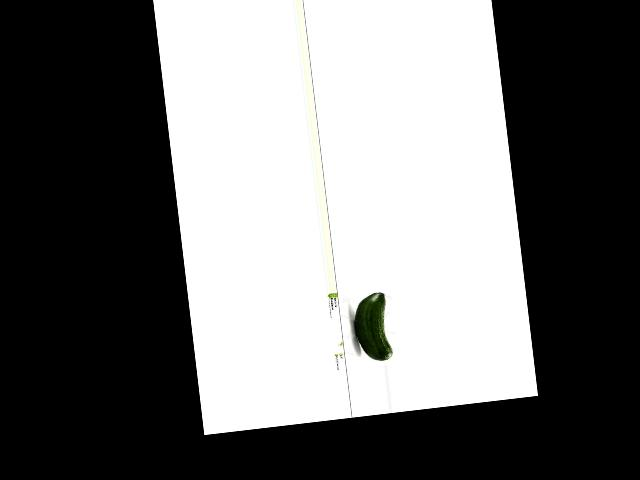cucumber: (351, 292, 392, 363)
